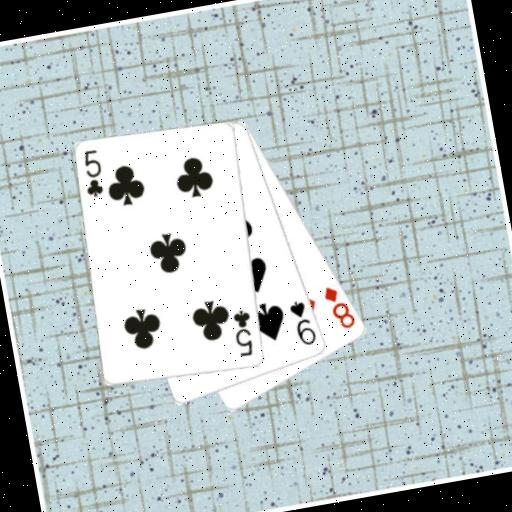5C: (76, 146, 108, 200), (228, 306, 258, 359)
8D: (319, 279, 359, 333)
9S: (285, 295, 319, 349)
